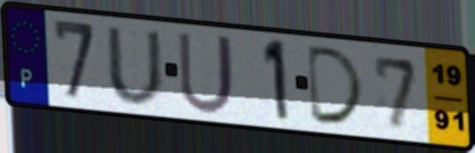1: (260, 36, 292, 125)
7: (51, 17, 98, 103), (371, 54, 421, 130)
D: (306, 43, 369, 128)
U: (175, 29, 238, 118), (103, 25, 168, 108)
